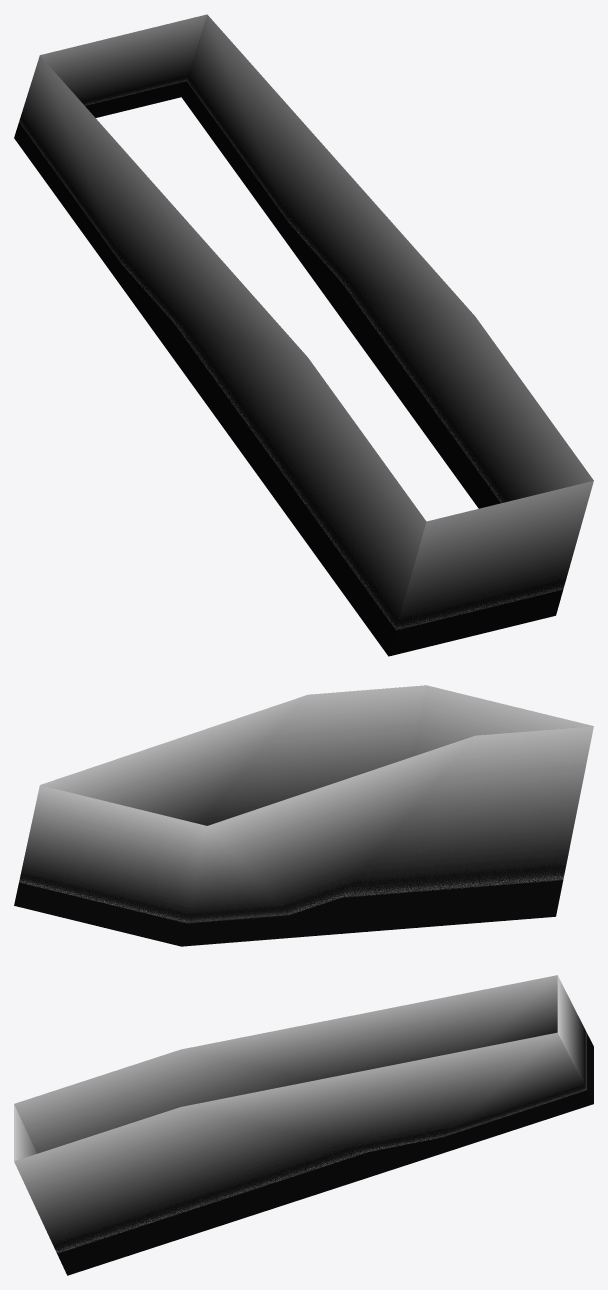
Rendered from gWinLong.fbx.
3 views of the same model, one above another, from view 1: azimuth 30°, elevation 25°; view 2: azimuth 150°, elevation 25°; view 3: azimuth 270°, elevation 25° (orthographic). The views are drawn at different scales.
Visible parts, largest first — view 1: Arch__1__1.004; view 2: Arch__1__1.004; view 3: Arch__1__1.004.
Part boxes in pixels (x1,y1,x2,y2): Arch__1__1.004: (14,14,593,656); Arch__1__1.004: (14,685,593,946); Arch__1__1.004: (14,975,593,1275).
Bounding box in the file's own units: 368 × 728 × 1572.
